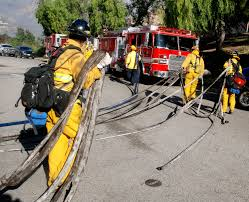emergent: (47, 20, 98, 185), (181, 45, 202, 99), (223, 52, 239, 113)
